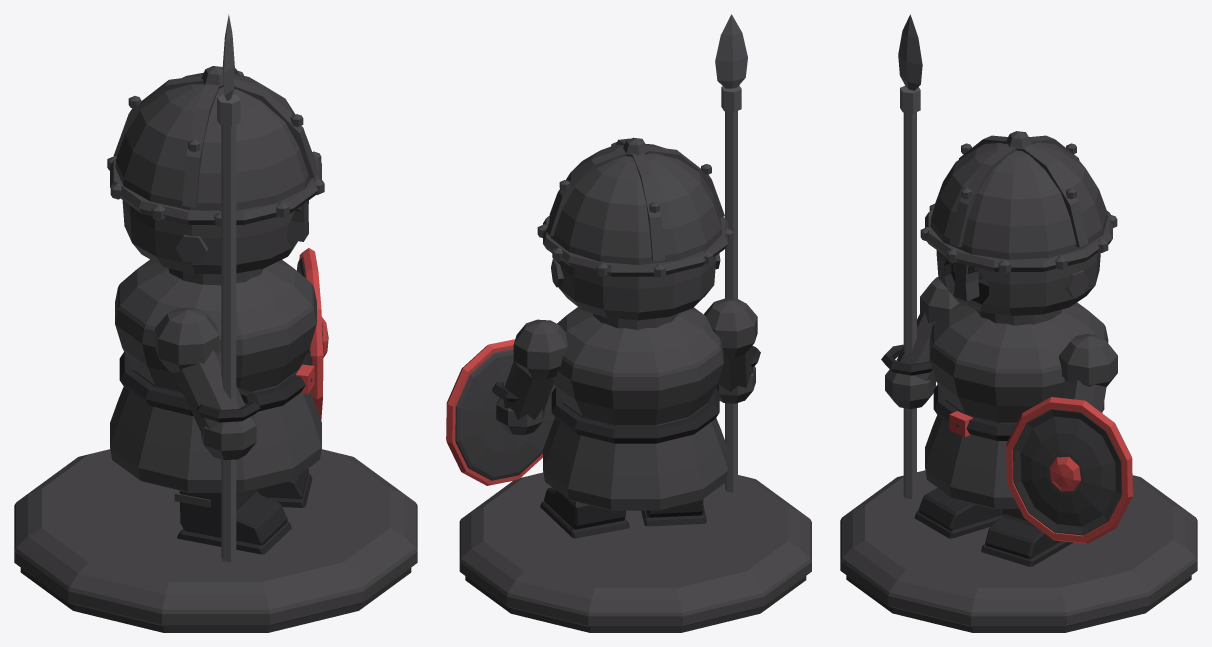
The model's file is pawn_black.glb.
The picture shows the model from 3 angles, left to right: view 1: azimuth 30°, elevation 25°; view 2: azimuth 150°, elevation 25°; view 3: azimuth 270°, elevation 25°; orthographic projection. The views are drawn at different scales.
Visible parts, largest first — view 1: Pawn_Black; view 2: Pawn_Black; view 3: Pawn_Black.
Boxes of the visible parts, <box> form: Pawn_Black: <box>14,14,417,632</box>; Pawn_Black: <box>446,14,811,632</box>; Pawn_Black: <box>840,14,1197,632</box>.
Size of the model in its own units: 1.2 by 1.94 by 1.2.
